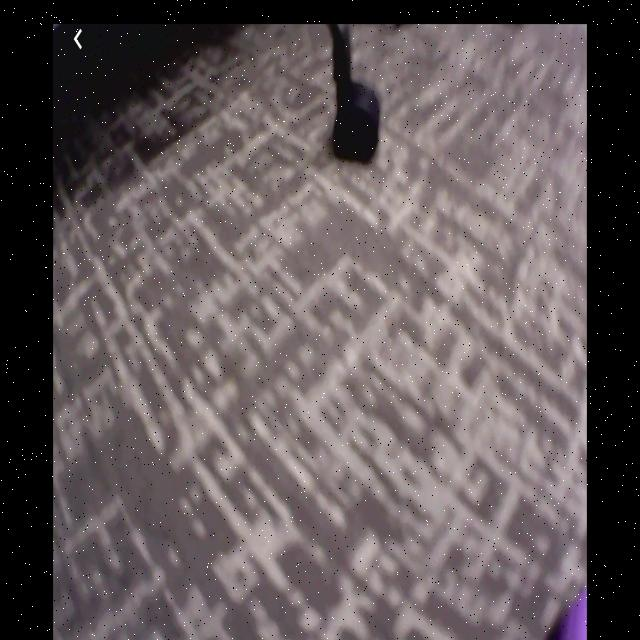ball: (560, 588, 587, 640)
